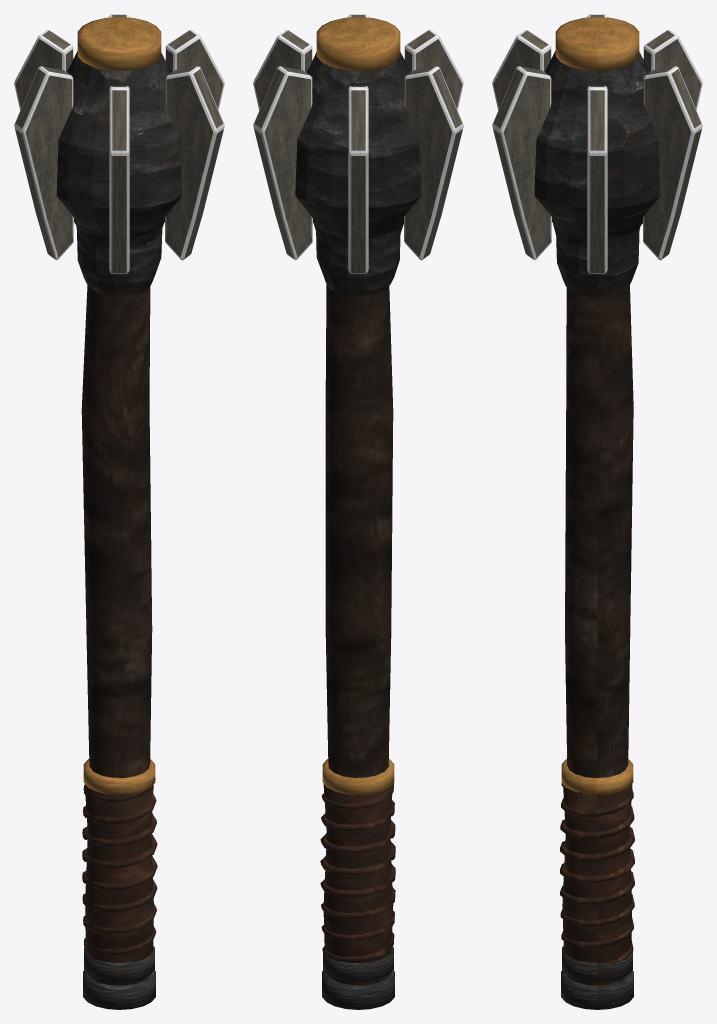
The model's file is verger_mace.glb.
The picture shows the model from 3 angles, left to right: view 1: azimuth 30°, elevation 25°; view 2: azimuth 150°, elevation 25°; view 3: azimuth 270°, elevation 25°; orthographic projection.
Parts seen in each view (by area): view 1: Straight palm shaft and tapered ironwood.004, Hollow cast bell-iron head, Bound palm grip.010, Staggered flanged mace fin.005, Staggered flanged mace fin.003, Continuous bound leather seam.010, Shaft collar, Staggered flanged mace fin.004, Swaged head socket.004, Staggered flanged mace fin, Staggered flanged mace fin.002, Socketed pommel ferrule.004 (+2 smaller); view 2: Straight palm shaft and tapered ironwood.004, Hollow cast bell-iron head, Bound palm grip.010, Staggered flanged mace fin.003, Staggered flanged mace fin.001, Continuous bound leather seam.010, Shaft collar, Staggered flanged mace fin.002, Swaged head socket.004, Staggered flanged mace fin, Staggered flanged mace fin.004, Socketed pommel ferrule.004 (+2 smaller); view 3: Straight palm shaft and tapered ironwood.004, Hollow cast bell-iron head, Bound palm grip.010, Staggered flanged mace fin.001, Staggered flanged mace fin.005, Continuous bound leather seam.010, Shaft collar, Staggered flanged mace fin, Swaged head socket.004, Staggered flanged mace fin.002, Staggered flanged mace fin.004, Socketed pommel ferrule.004 (+2 smaller).
Boxes of the visible parts, left/top/right/bottom form: Straight palm shaft and tapered ironwood.004: left=81, top=285, right=152, bottom=985; Hollow cast bell-iron head: left=56, top=51, right=182, bottom=250; Bound palm grip.010: left=84, top=784, right=153, bottom=963; Staggered flanged mace fin.005: left=165, top=66, right=224, bottom=260; Staggered flanged mace fin.003: left=14, top=66, right=73, bottom=260; Continuous bound leather seam.010: left=82, top=778, right=157, bottom=955; Shaft collar: left=77, top=17, right=161, bottom=70; Staggered flanged mace fin.004: left=109, top=85, right=129, bottom=273; Swaged head socket.004: left=76, top=228, right=162, bottom=296; Staggered flanged mace fin: left=165, top=30, right=224, bottom=109; Staggered flanged mace fin.002: left=14, top=30, right=73, bottom=109; Socketed pommel ferrule.004: left=83, top=970, right=155, bottom=1009; Straight palm shaft and tapered ironwood.004: left=325, top=284, right=393, bottom=985; Hollow cast bell-iron head: left=295, top=52, right=421, bottom=249; Bound palm grip.010: left=323, top=784, right=393, bottom=963; Staggered flanged mace fin.003: left=404, top=66, right=463, bottom=260; Staggered flanged mace fin.001: left=253, top=66, right=312, bottom=260; Continuous bound leather seam.010: left=320, top=783, right=395, bottom=962; Shaft collar: left=316, top=17, right=400, bottom=70; Staggered flanged mace fin.002: left=348, top=85, right=368, bottom=273; Swaged head socket.004: left=316, top=232, right=400, bottom=296; Staggered flanged mace fin: left=253, top=30, right=312, bottom=109; Staggered flanged mace fin.004: left=404, top=30, right=463, bottom=109; Socketed pommel ferrule.004: left=322, top=970, right=394, bottom=1009; Straight palm shaft and tapered ironwood.004: left=565, top=285, right=633, bottom=985; Hollow cast bell-iron head: left=534, top=50, right=660, bottom=250; Bound palm grip.010: left=562, top=784, right=632, bottom=962; Staggered flanged mace fin.001: left=643, top=66, right=702, bottom=260; Staggered flanged mace fin.005: left=492, top=66, right=551, bottom=260; Continuous bound leather seam.010: left=560, top=783, right=634, bottom=967; Shaft collar: left=555, top=17, right=639, bottom=70; Staggered flanged mace fin: left=587, top=85, right=607, bottom=273; Swaged head socket.004: left=556, top=229, right=639, bottom=296; Staggered flanged mace fin.002: left=643, top=30, right=702, bottom=109; Staggered flanged mace fin.004: left=492, top=30, right=551, bottom=109; Socketed pommel ferrule.004: left=561, top=970, right=633, bottom=1009.
Bounding box in the file's own units: 0.2308 × 1.05 × 0.2079.
6 materials, 6 textured.
